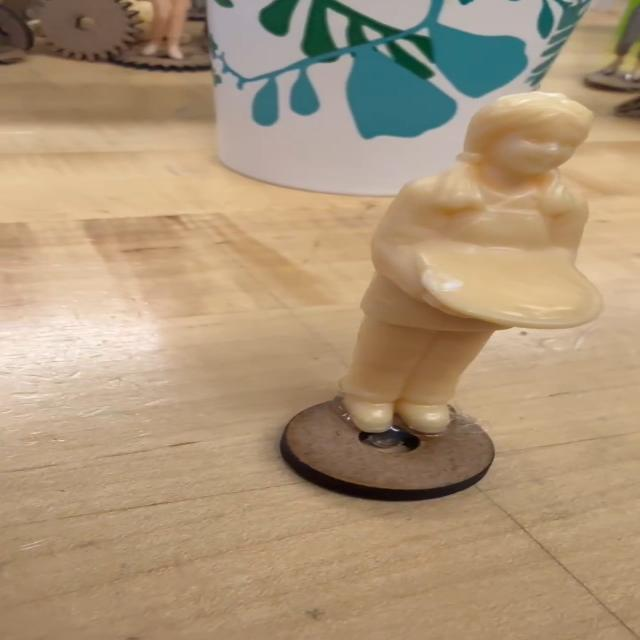Unauthorized: (311, 71, 610, 439)
